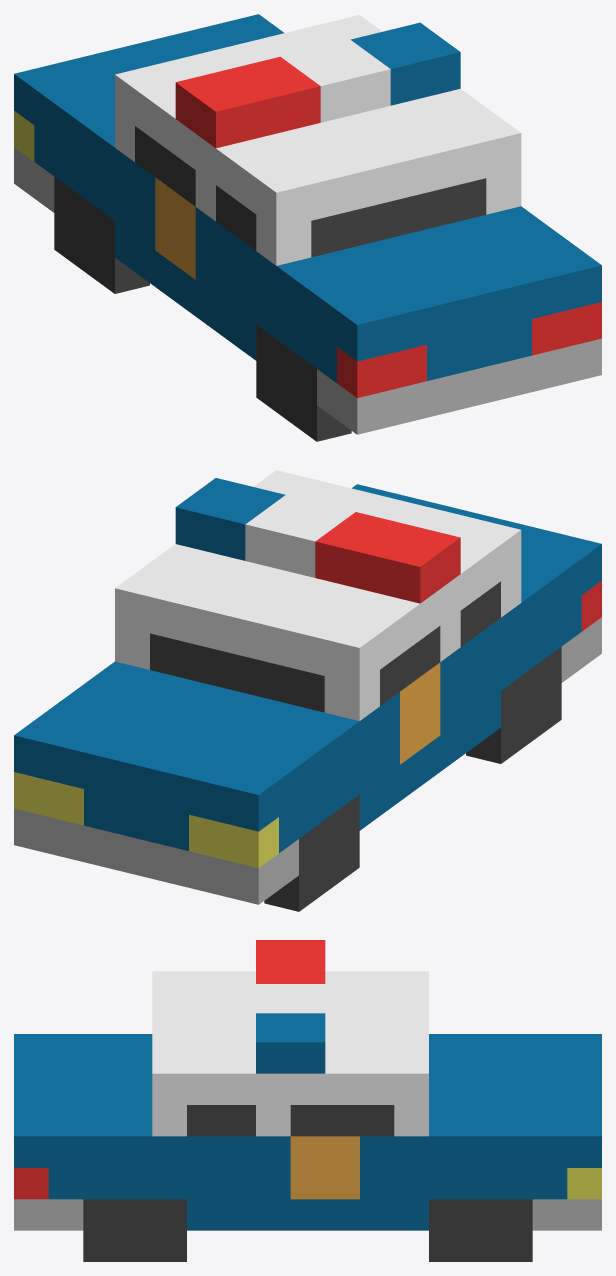
File: cars-0-PoliceCar.obj
3 renders of one model, top to bottom at view 1: azimuth 30°, elevation 25°; view 2: azimuth 150°, elevation 25°; view 3: azimuth 270°, elevation 25°, orthographic. The views are drawn at different scales.
Visible parts, largest first — view 1: PoliceCar; view 2: PoliceCar; view 3: PoliceCar.
Boxes of the visible parts, x1=… form: PoliceCar: x1=14, y1=14, x2=601, y2=441; PoliceCar: x1=14, y1=470, x2=601, y2=911; PoliceCar: x1=14, y1=940, x2=601, y2=1261.
Bounding box in the file's own units: 0.7 × 0.7 × 1.7.
1 material, 1 textured.
